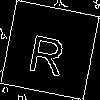R: (25, 25, 70, 77)
